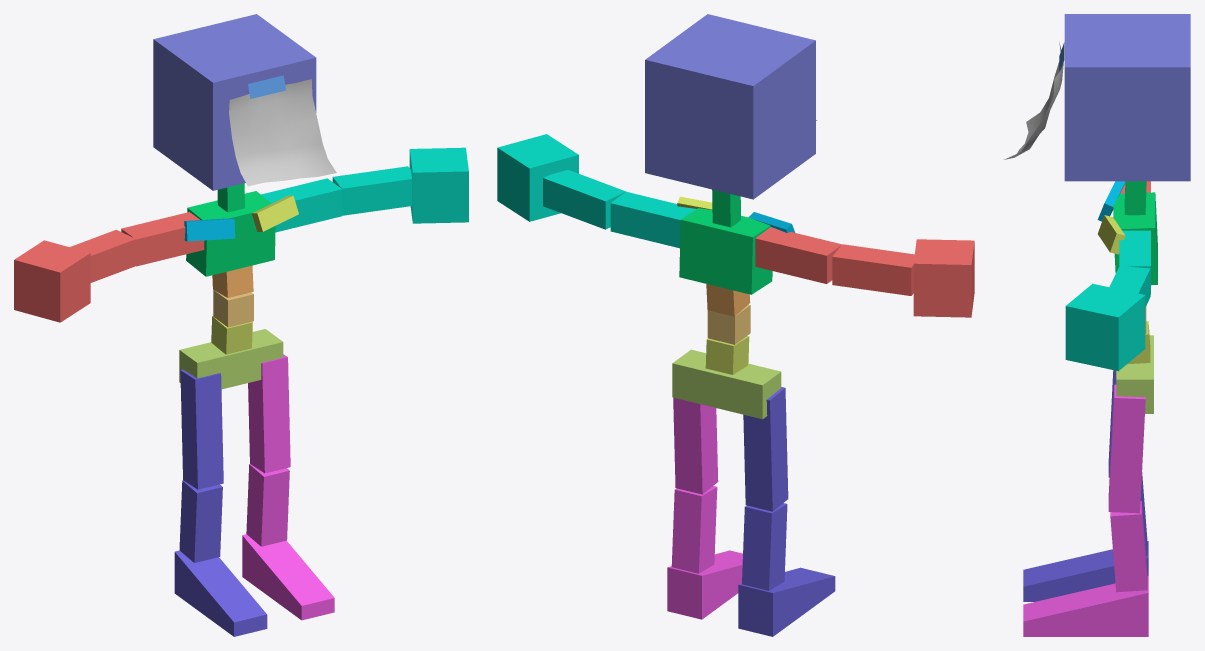
File: pruebaTimmy.FBX
The picture shows the model from 3 angles, left to right: view 1: azimuth 30°, elevation 25°; view 2: azimuth 150°, elevation 25°; view 3: azimuth 270°, elevation 25°; orthographic projection. The views are drawn at different scales.
Visible parts, largest first — view 1: GameObjectBody, GameObjectFace; view 2: GameObjectBody; view 3: GameObjectBody, GameObjectFace.
Part boxes in pixels (<box>): GameObjectBody: <box>14,14,468,636</box>; GameObjectFace: <box>229,79,336,186</box>; GameObjectBody: <box>497,14,974,636</box>; GameObjectBody: <box>1023,14,1190,636</box>; GameObjectFace: <box>1004,42,1063,159</box>.
Size of the model in its own units: 131 by 150 by 44.62.
